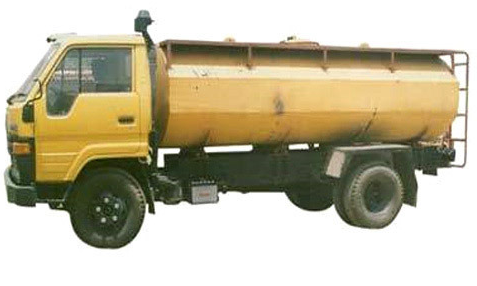truck: (3, 13, 476, 256)
